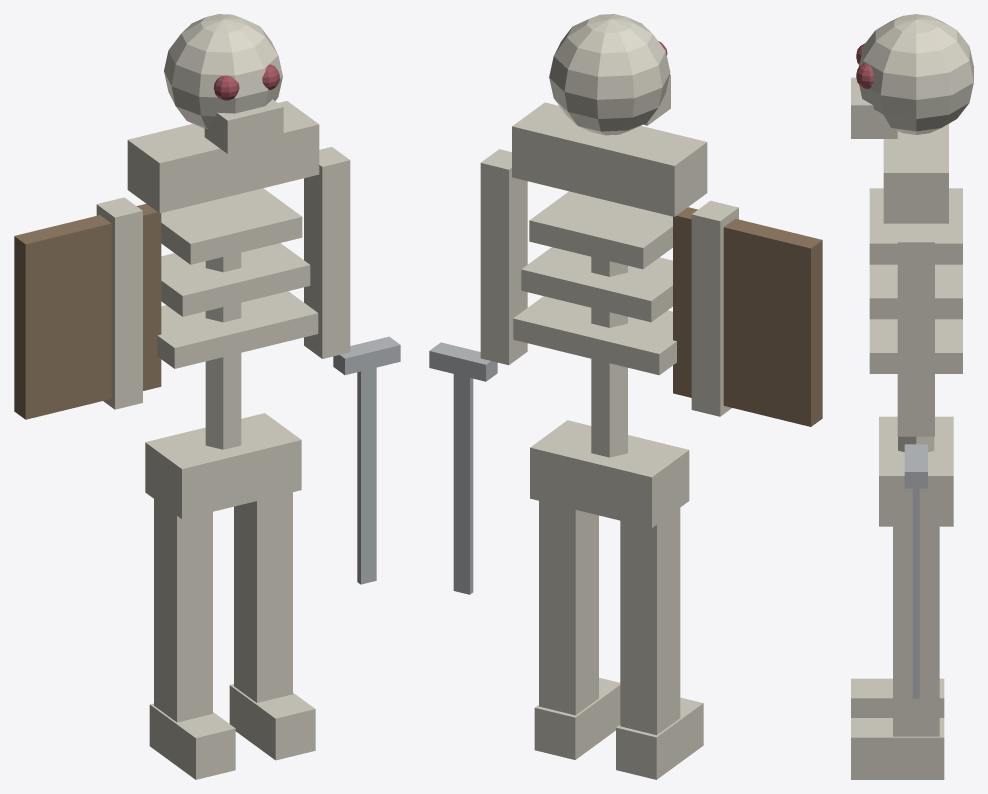
The model's file is skeleton.fbx.
3 renders of one model, left to right at view 1: azimuth 30°, elevation 25°; view 2: azimuth 150°, elevation 25°; view 3: azimuth 270°, elevation 25°, orthographic.
Visible parts, largest first — view 1: skeleton; view 2: skeleton; view 3: skeleton.
Part boxes in pixels (box(x1,y1,x2,y2)): skeleton: box(14, 14, 400, 779); skeleton: box(429, 14, 822, 779); skeleton: box(851, 14, 973, 779).
Bounding box in the file's own units: 94 × 173 × 26.36.
